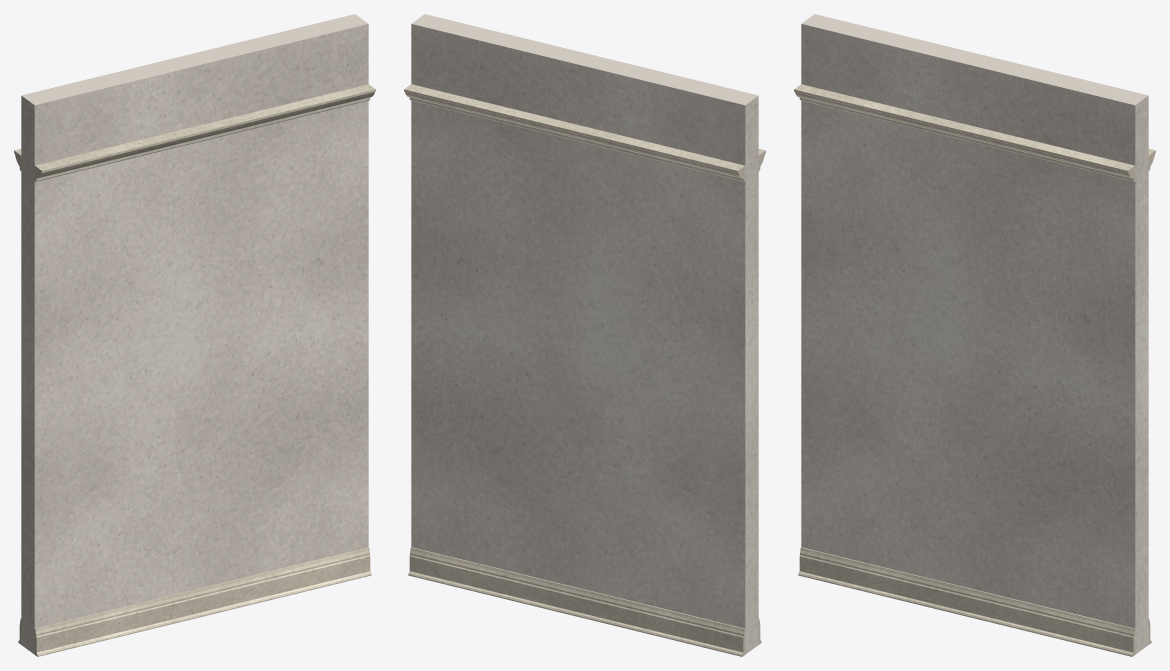
Rendered from iw_plain.glb.
3 views of the same model, side by side, from view 1: azimuth 30°, elevation 25°; view 2: azimuth 150°, elevation 25°; view 3: azimuth 330°, elevation 25° (orthographic).
Visible parts, largest first — view 1: iw_plain_plaster, molduras; view 2: iw_plain_plaster, molduras; view 3: iw_plain_plaster, molduras.
Boxes of the visible parts, x1,y1,x2,y2 form: iw_plain_plaster: (21, 14, 368, 654); molduras: (14, 84, 375, 656); iw_plain_plaster: (411, 14, 758, 654); molduras: (404, 84, 765, 656); iw_plain_plaster: (801, 14, 1148, 654); molduras: (794, 84, 1155, 656).
Size of the model in its own units: 2 by 3.14 by 0.29.
2 materials, 2 textured.
